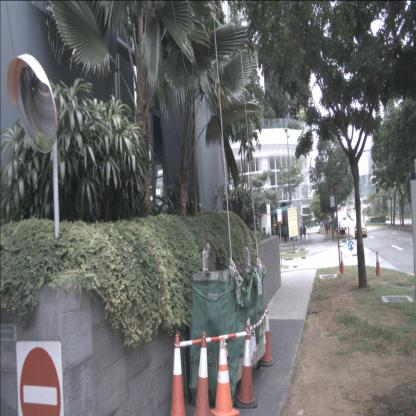human-pedestrian-adult: (284, 225, 288, 243), (302, 225, 306, 241), (299, 226, 303, 241)
movable_object-trafficcone: (210, 337, 240, 415), (190, 333, 215, 415), (235, 324, 258, 408), (168, 334, 187, 416), (260, 304, 275, 367), (374, 250, 382, 277), (339, 251, 345, 273)
vehicle-car: (354, 222, 367, 239)
